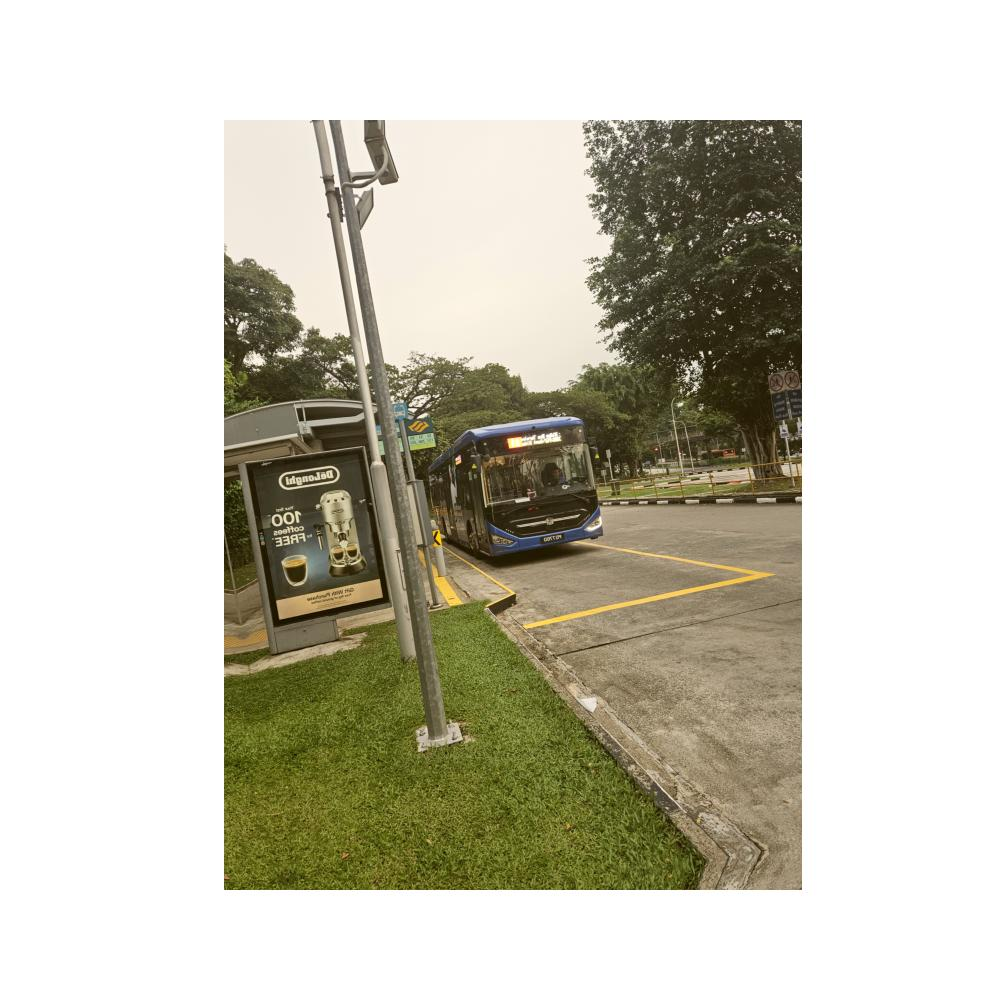bus: (426, 414, 605, 567)
